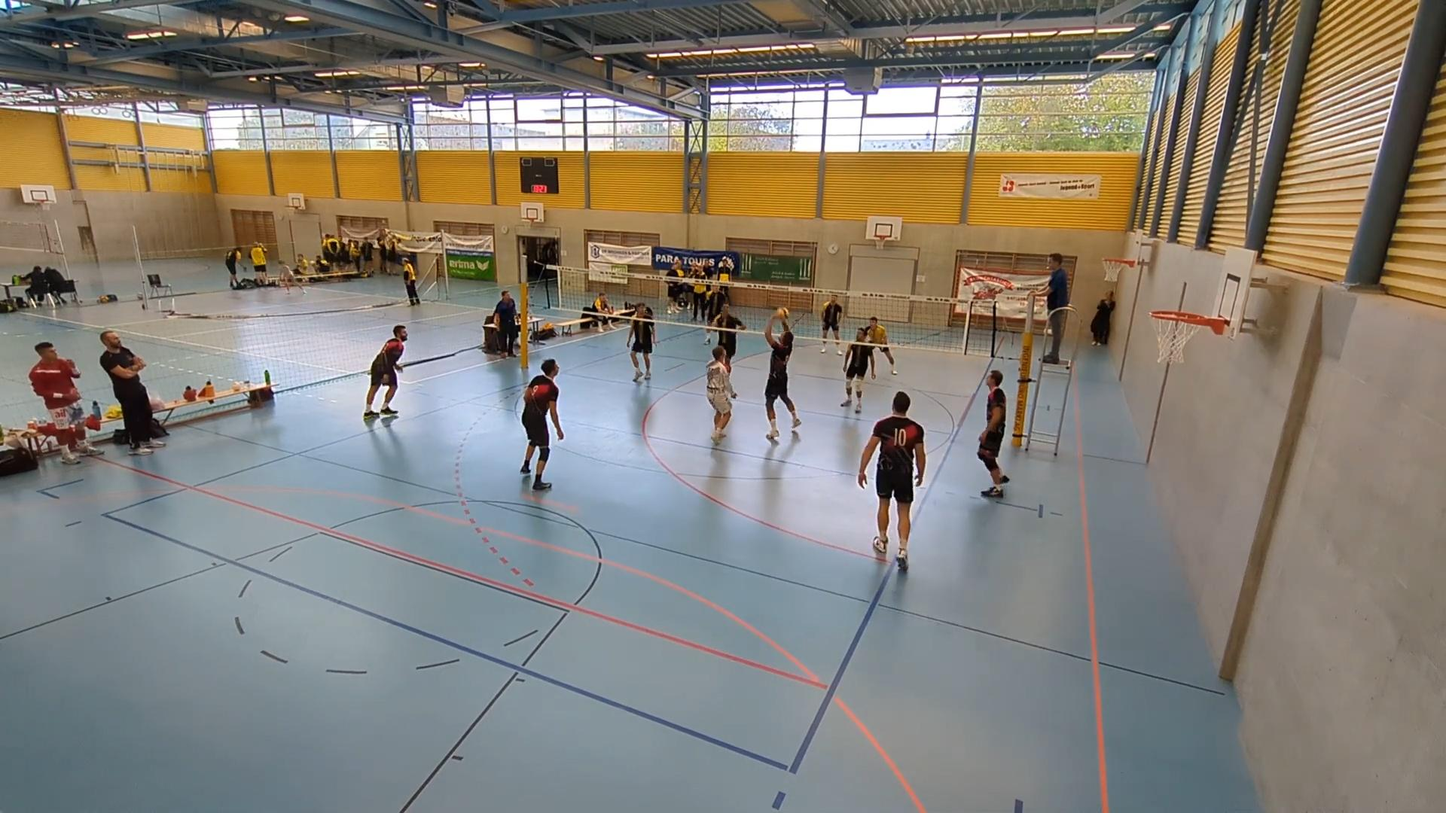alzata: (762, 312, 801, 454)
